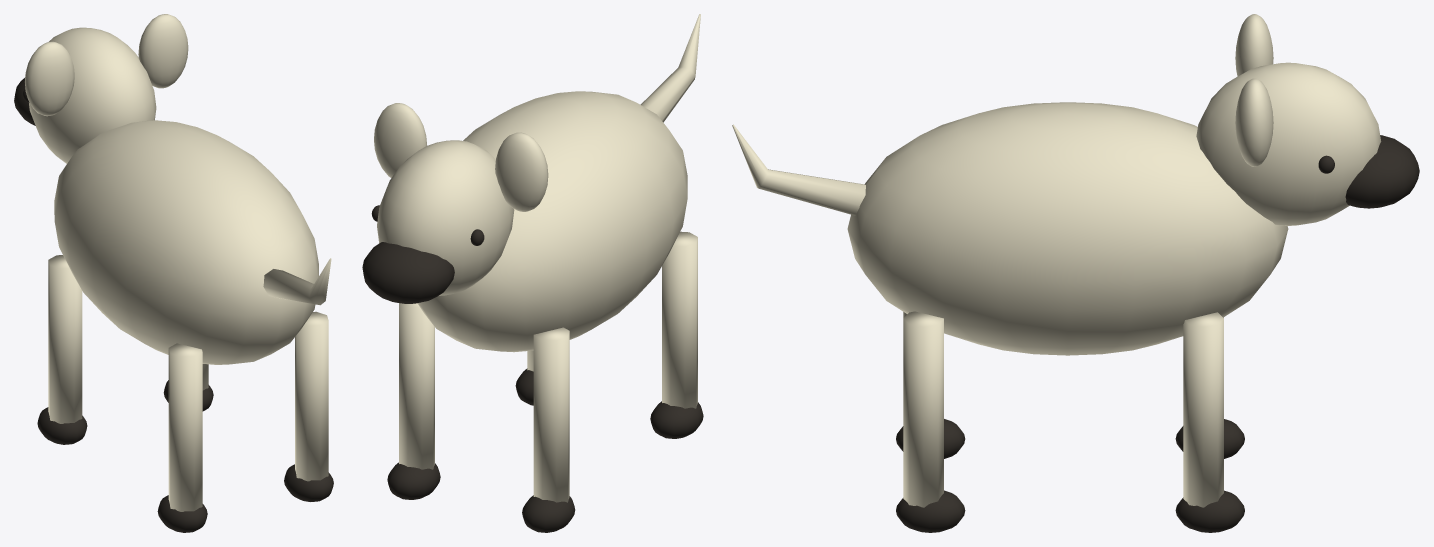
The model's file is sheep.glb.
3 renders of one model, left to right at view 1: azimuth 30°, elevation 25°; view 2: azimuth 150°, elevation 25°; view 3: azimuth 270°, elevation 25°, orthographic. The views are drawn at different scales.
Parts seen in each view (by area): view 1: Sheep_Geometry, AnimalHead_Geometry, AnimalLeg.001_Geometry, AnimalLeg_Geometry, AnimalLeg.003_Geometry, AnimalLeg.002_Geometry; view 2: Sheep_Geometry, AnimalHead_Geometry, AnimalLeg_Geometry, AnimalLeg.001_Geometry, AnimalLeg.002_Geometry, AnimalLeg.003_Geometry; view 3: Sheep_Geometry, AnimalHead_Geometry, AnimalLeg.003_Geometry, AnimalLeg.002_Geometry, AnimalLeg.001_Geometry.
Part boxes in pixels (x1,y1,x2,y2): Sheep_Geometry: [54, 120, 331, 364]; AnimalHead_Geometry: [14, 14, 188, 163]; AnimalLeg.001_Geometry: [157, 343, 207, 532]; AnimalLeg_Geometry: [37, 255, 87, 444]; AnimalLeg.003_Geometry: [284, 311, 333, 501]; AnimalLeg.002_Geometry: [163, 364, 213, 411]; Sheep_Geometry: [417, 14, 700, 352]; AnimalHead_Geometry: [362, 103, 548, 303]; AnimalLeg_Geometry: [522, 327, 575, 532]; AnimalLeg.001_Geometry: [650, 231, 703, 438]; AnimalLeg.002_Geometry: [387, 303, 440, 499]; AnimalLeg.003_Geometry: [515, 350, 533, 405]; Sheep_Geometry: [732, 102, 1288, 355]; AnimalHead_Geometry: [1196, 14, 1419, 225]; AnimalLeg.003_Geometry: [896, 311, 965, 532]; AnimalLeg.002_Geometry: [1175, 312, 1244, 532]; AnimalLeg.001_Geometry: [896, 312, 965, 458].
Size of the model in its own units: 0.6 by 1.16 by 1.62.
